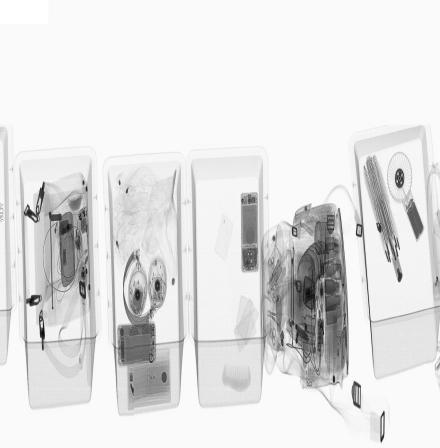Lighter: (319, 303, 324, 334)
